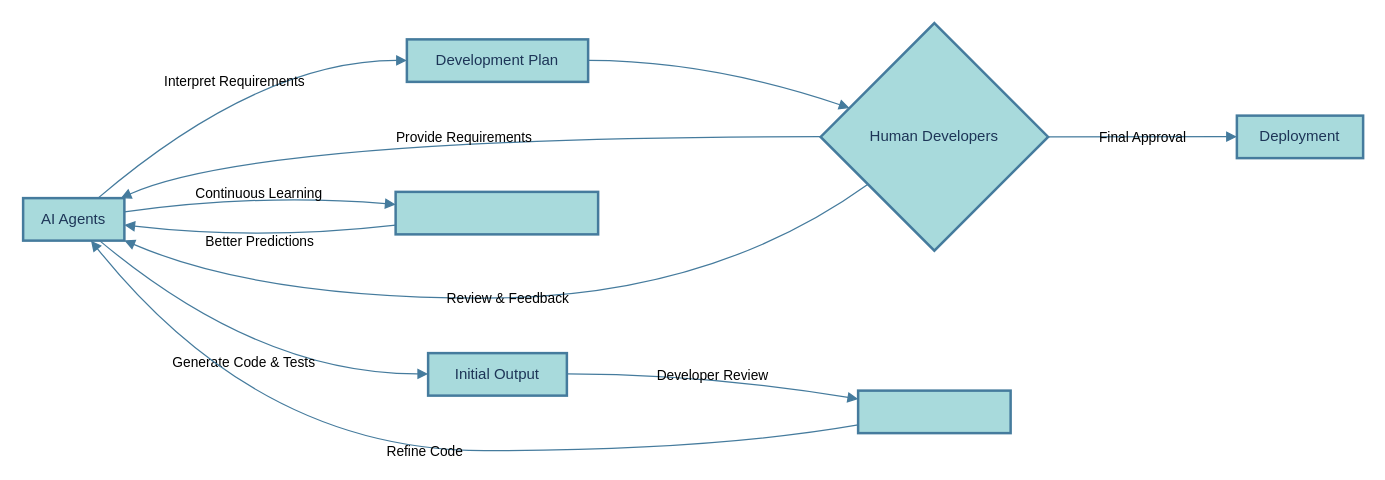
Some shapes in this 1385 by 480 pixel diagram are drawn without their labels. The shapes that lost their labels are listed below. From the top down, each one's box as (x1, y1, x2, y2) in pixels, then its label:
(394, 190, 599, 235): Improved Algorithms
(856, 389, 1011, 434): Feedback Loop
